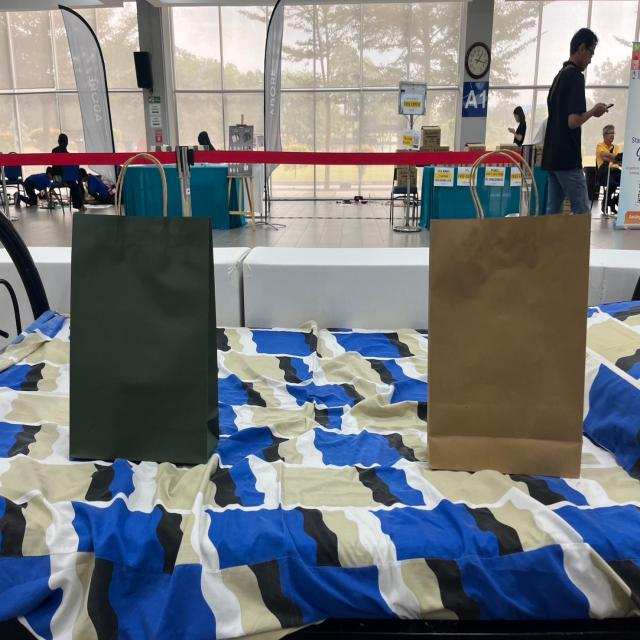bag: (440, 147, 576, 478), (70, 145, 214, 430)
